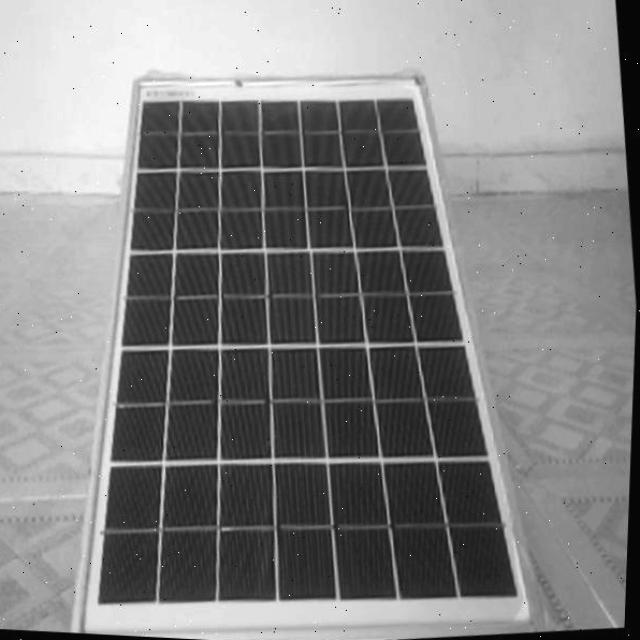Normal Solar Panel: (21, 38, 567, 640)
